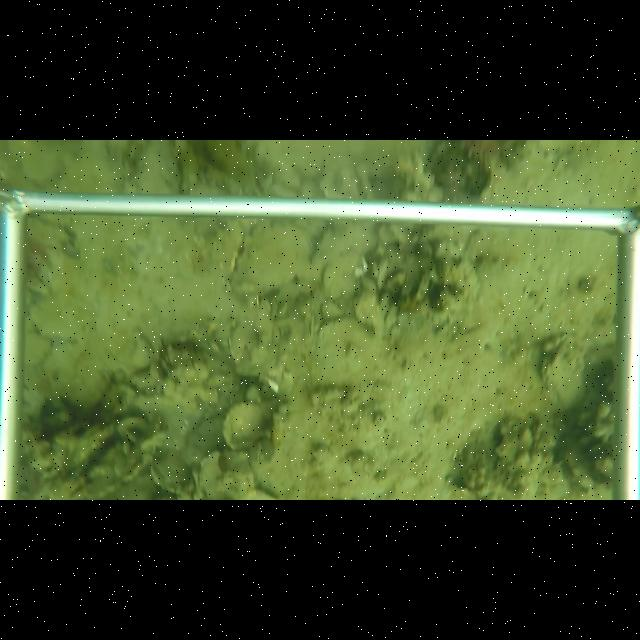Oyster-Closed: (226, 224, 314, 298), (540, 333, 585, 410), (218, 400, 265, 451)
